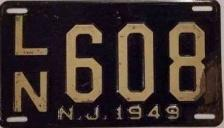0: (115, 20, 156, 106)
6: (62, 22, 106, 107)
B: (166, 20, 208, 105)
